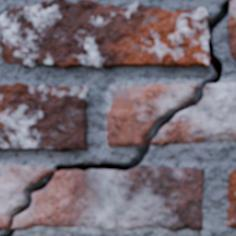brick: (0, 0, 208, 68), (0, 83, 88, 151), (226, 172, 235, 227), (228, 1, 235, 59)
broken_brick: (14, 164, 205, 232), (107, 81, 200, 147), (153, 81, 235, 146), (0, 165, 51, 231)
crack: (1, 0, 235, 235), (184, 168, 195, 183)
